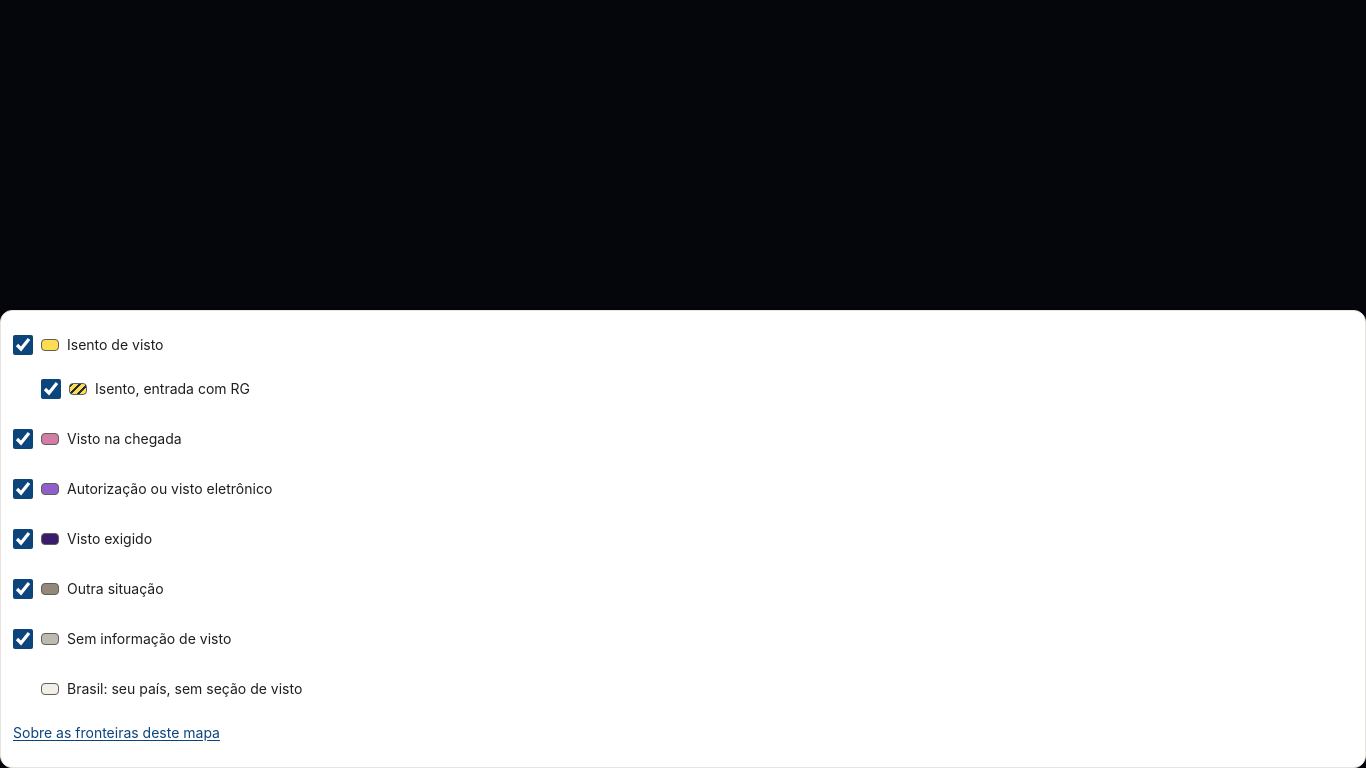
Test: LegendaDeVistos: categorias › desmarcar só o subitem deixa o pai em estado misto, por atributo e por texto
(page scrolled)
Click the checkbox labelled "Isento, entrada com RG". click: (51, 389)
box: [41, 379, 61, 399]
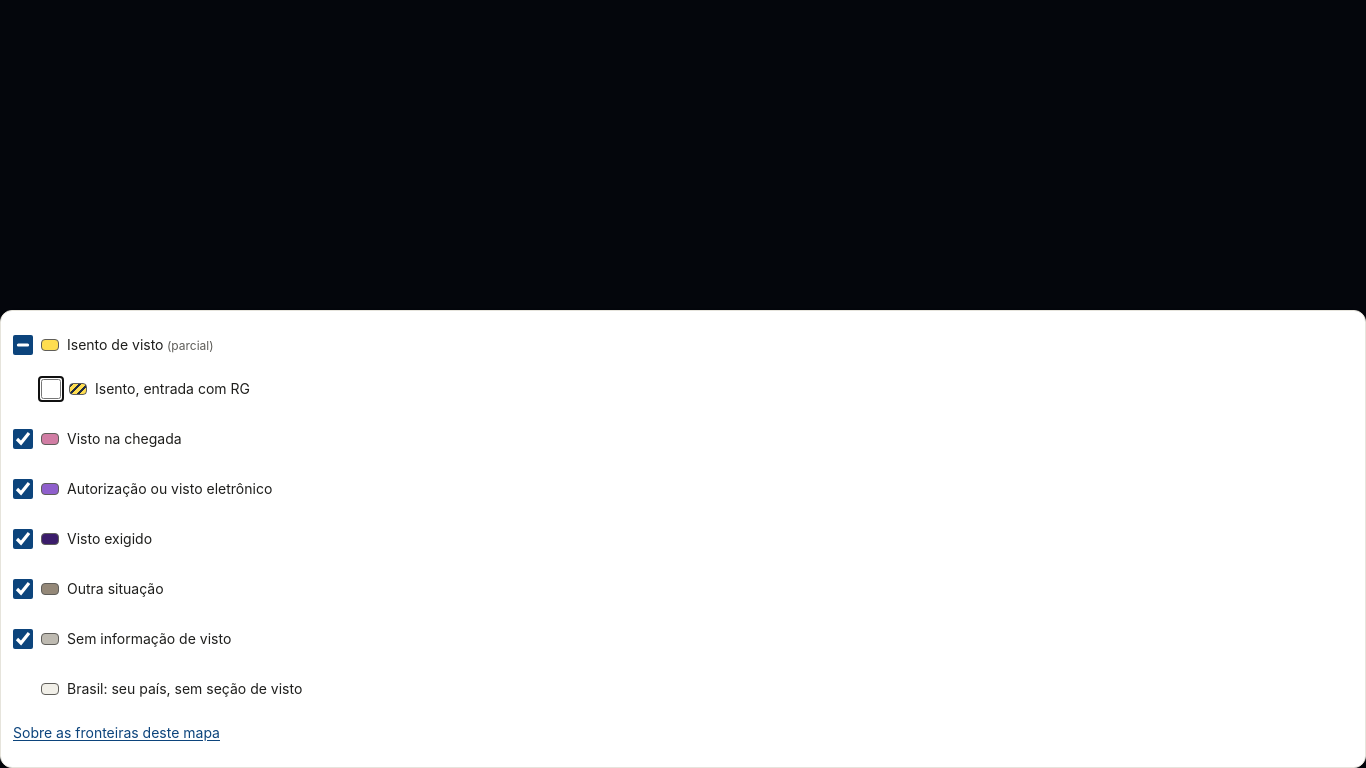
Result: the text "(parcial)" is shown at [164, 338, 214, 353]
